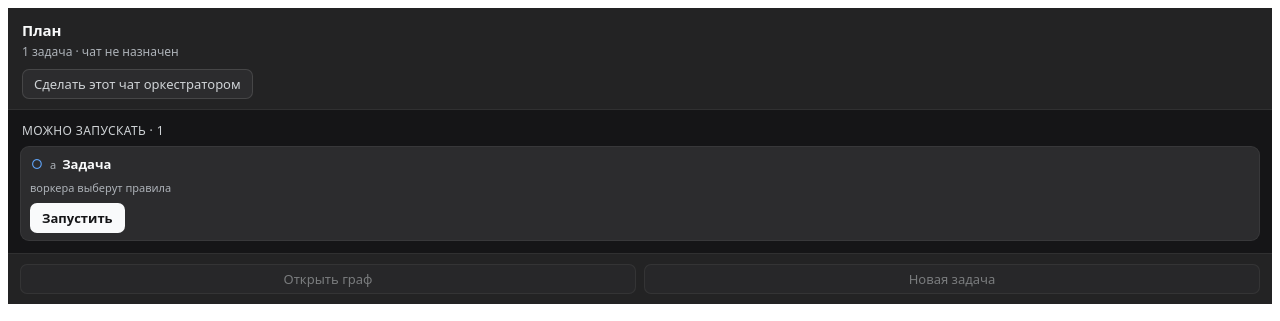
it: «Сделать этот чат оркестратором» posts the binding and the header follows
Expected: the text "1 задача · чат не назначен" is shown, [22,43,179,60]
Click the button "Сделать этот чат оркестратором".
click(137, 84)  # box [22,69,253,99]
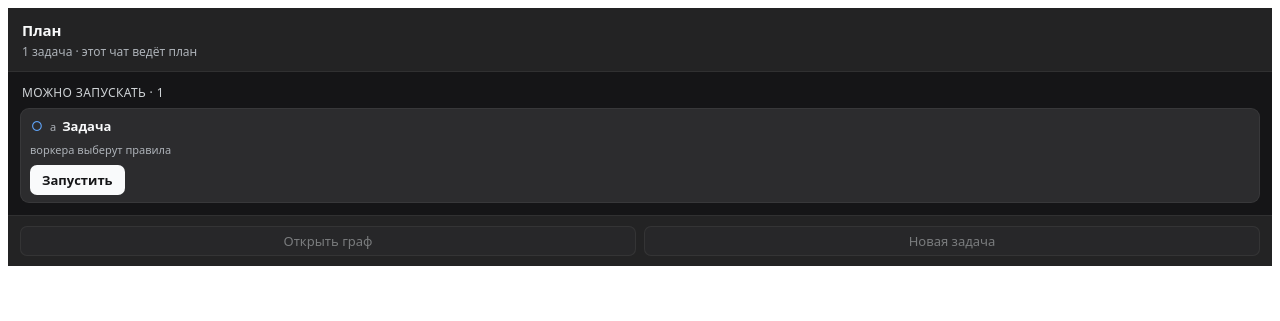
Now the text "1 задача · этот чат ведёт план" is shown, box [22,43,197,60]
Now the button "Сделать этот чат оркестратором" is gone
